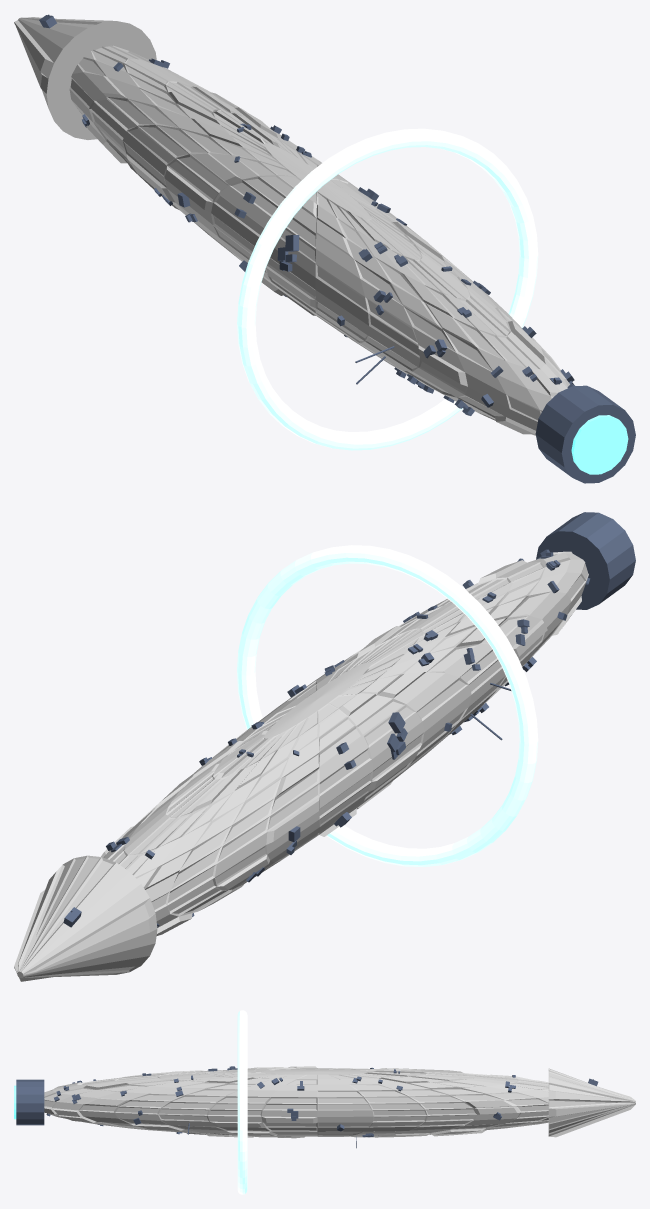
File: vossari_small.glb
The picture shows the model from 3 angles, top to bottom: view 1: azimuth 30°, elevation 25°; view 2: azimuth 150°, elevation 25°; view 3: azimuth 270°, elevation 25°; orthographic projection. The views are drawn at different scales.
Visible parts, largest first — view 1: vossari_small; view 2: vossari_small; view 3: vossari_small.
Part boxes in pixels (x1,y1,x2,y2): vossari_small: (14,14,635,483); vossari_small: (14,512,635,981); vossari_small: (14,1010,635,1194).
Size of the model in its own units: 2.97 by 2.97 by 10.
